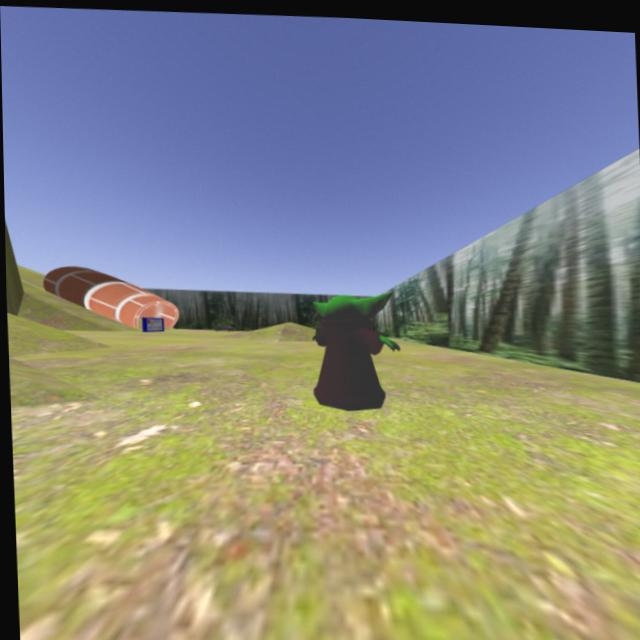yoda: (296, 282, 413, 420)
